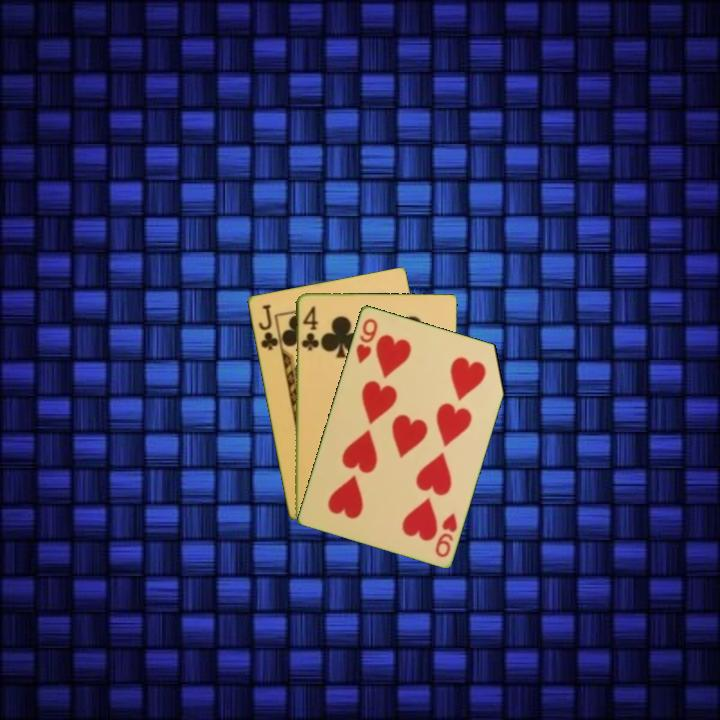4c: (298, 302, 321, 353)
9h: (431, 508, 460, 560), (352, 314, 380, 366)
Jc: (255, 301, 281, 353)
